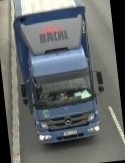truck: (10, 0, 110, 148)
